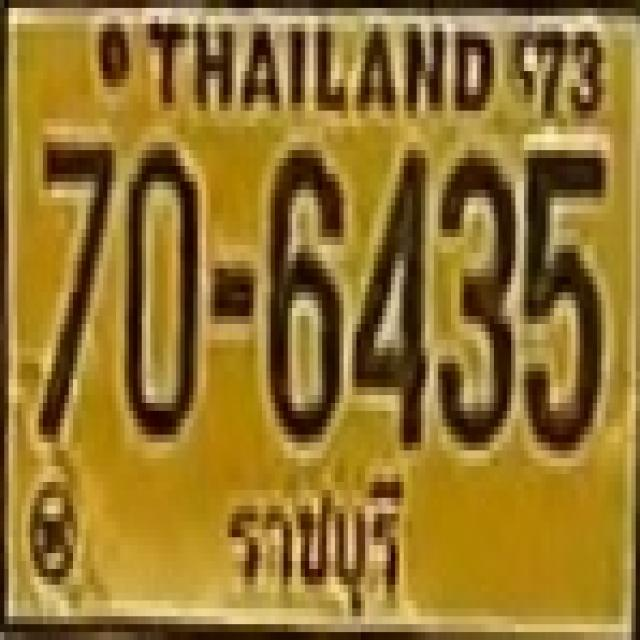0: (120, 138, 193, 431)
3: (434, 150, 511, 443)
4: (350, 142, 423, 442)
5: (520, 142, 601, 442)
6: (266, 142, 340, 435)
7: (38, 134, 112, 434)
RBR: (213, 460, 411, 624)
